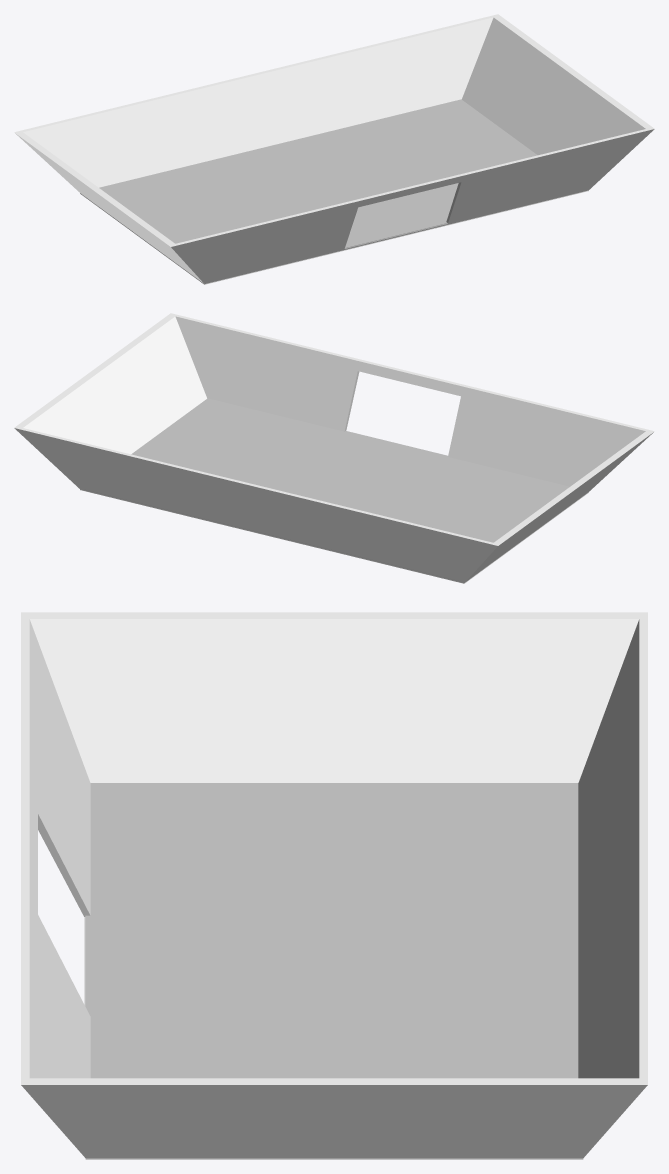
The model's file is Bottom.fbx.
The picture shows the model from 3 angles, top to bottom: view 1: azimuth 30°, elevation 25°; view 2: azimuth 150°, elevation 25°; view 3: azimuth 270°, elevation 25°; orthographic projection. The views are drawn at different scales.
Visible parts, largest first — view 1: Room2, Piso1; view 2: Room2, Piso1; view 3: Room2, Piso1.
Part boxes in pixels (<box>): Room2: <box>14,14,654,284</box>; Piso1: <box>99,99,537,248</box>; Room2: <box>14,313,654,583</box>; Piso1: <box>85,398,569,581</box>; Room2: <box>21,612,647,1159</box>; Piso1: <box>85,783,578,1078</box>.
Size of the model in its own units: 4100 by 500 by 2300.
